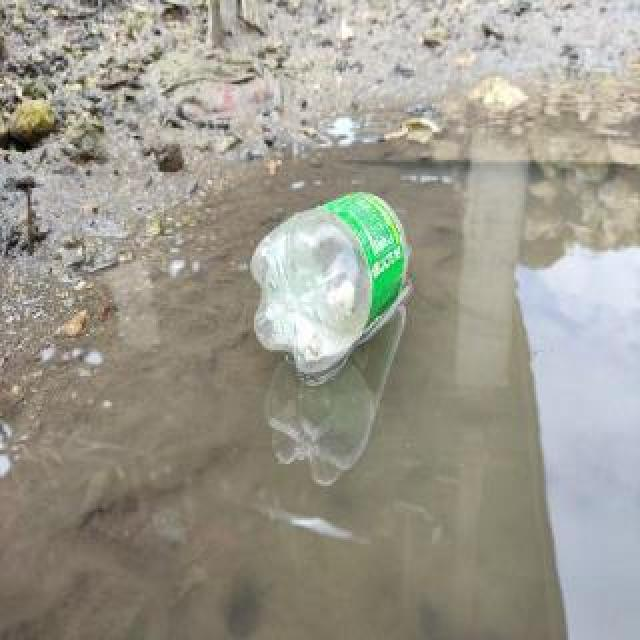Bottle: (241, 185, 421, 385)
